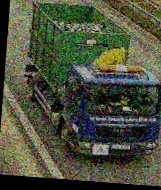truck: (18, 1, 161, 163)
